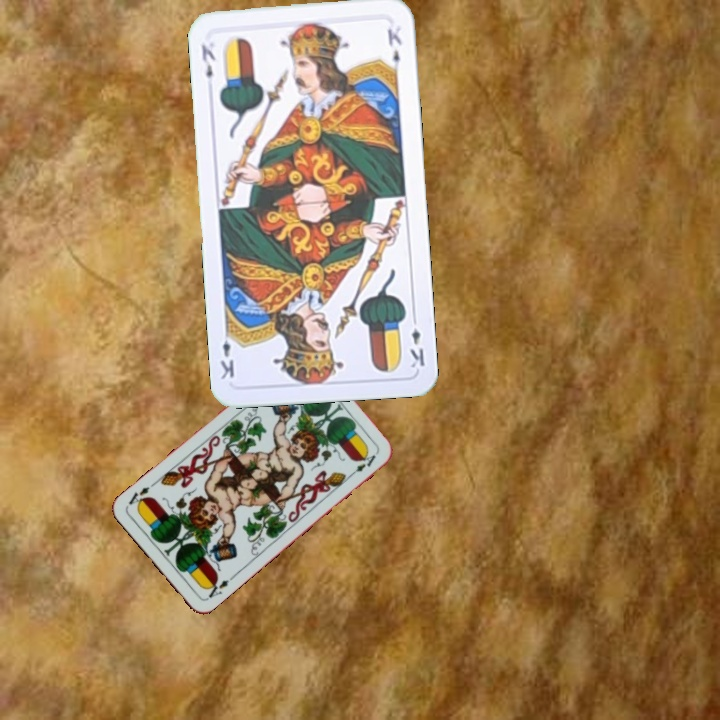EA: (202, 572, 237, 602)
EK: (406, 311, 427, 370), (197, 40, 218, 81)
